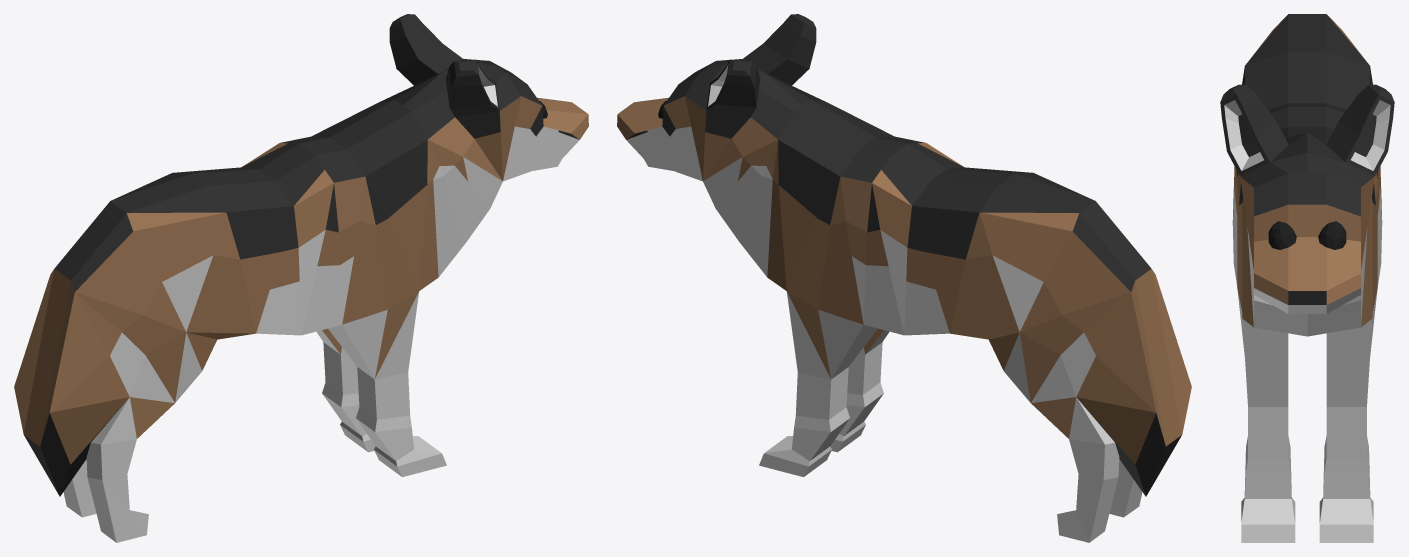
File: wolf.fbx
The picture shows the model from 3 angles, left to right: view 1: azimuth 30°, elevation 25°; view 2: azimuth 150°, elevation 25°; view 3: azimuth 270°, elevation 25°; orthographic projection. The views are drawn at different scales.
Visible parts, largest first — view 1: Wolf; view 2: Wolf; view 3: Wolf.
Boxes of the visible parts, <box> form: Wolf: <box>14,14,588,542</box>; Wolf: <box>617,14,1191,542</box>; Wolf: <box>1220,14,1394,542</box>.
Size of the model in its own units: 364 by 255 by 86.43.
